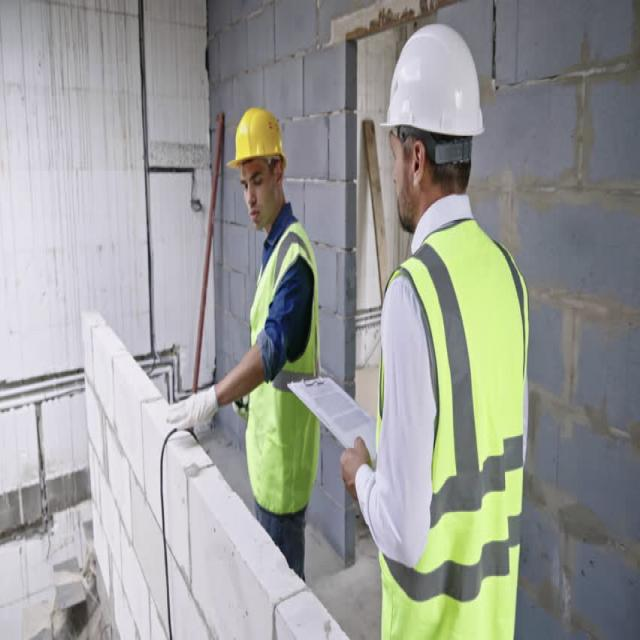Reflective-Jacket: (365, 212, 539, 637), (237, 219, 329, 516)
Safety-Helmet: (376, 16, 488, 149), (224, 99, 290, 176)
